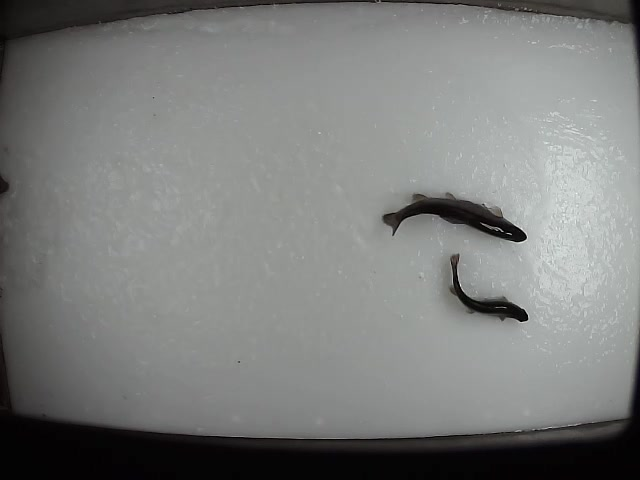Fish: (383, 192, 527, 243), (450, 254, 528, 322)
